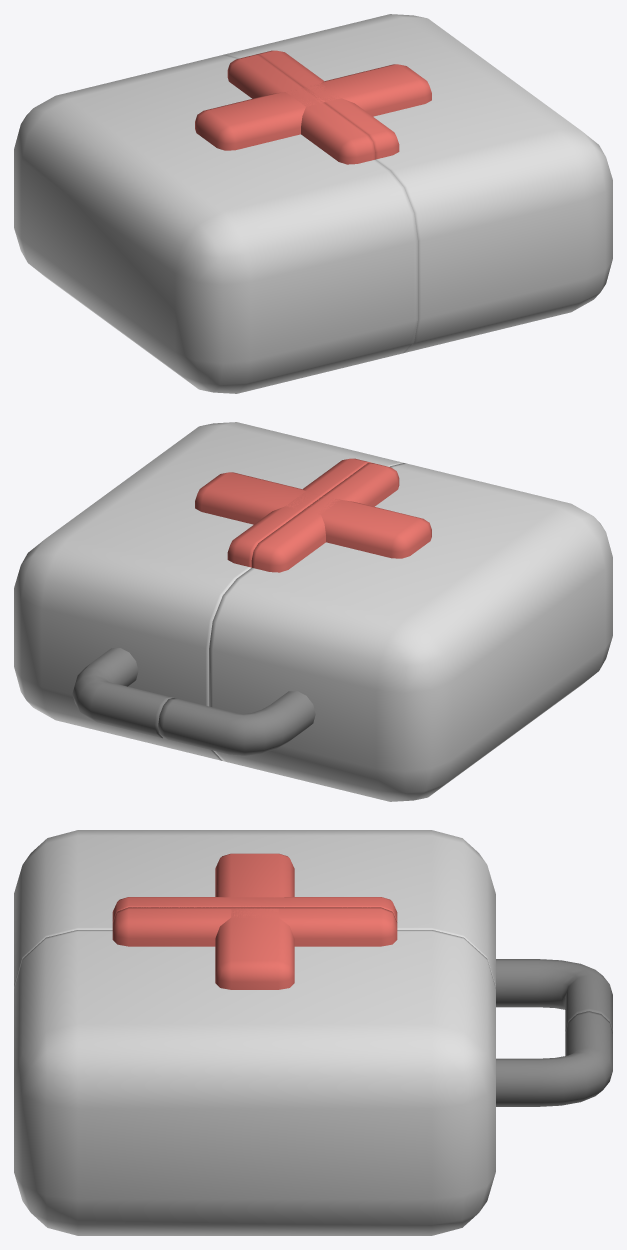
The model's file is SM_FirstAidKit_01b.fbx.
3 views of the same model, one above another, from view 1: azimuth 30°, elevation 25°; view 2: azimuth 150°, elevation 25°; view 3: azimuth 270°, elevation 25° (orthographic). The views are drawn at different scales.
Visible parts, largest first — view 1: FirstAidKit_01, FirstAidKit_02; view 2: FirstAidKit_01, FirstAidKit_02; view 3: FirstAidKit_02, FirstAidKit_01.
Boxes of the visible parts, x1,y1,x2,y2 form: FirstAidKit_01: (14,55,417,393); FirstAidKit_02: (223,14,612,352); FirstAidKit_01: (158,463,612,801); FirstAidKit_02: (14,422,403,760); FirstAidKit_02: (14,907,612,1235); FirstAidKit_01: (14,830,612,1031).
Bounding box in the file's own units: 32.53 × 14.33 × 34.01.
